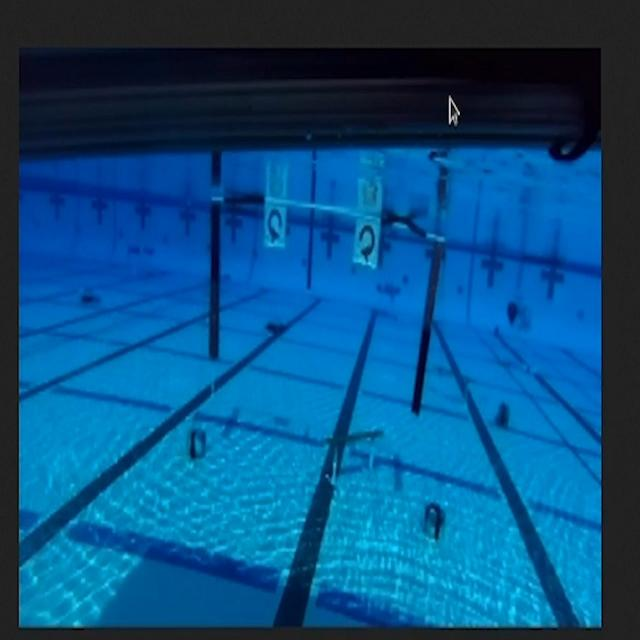Gate: (208, 187, 441, 417)
